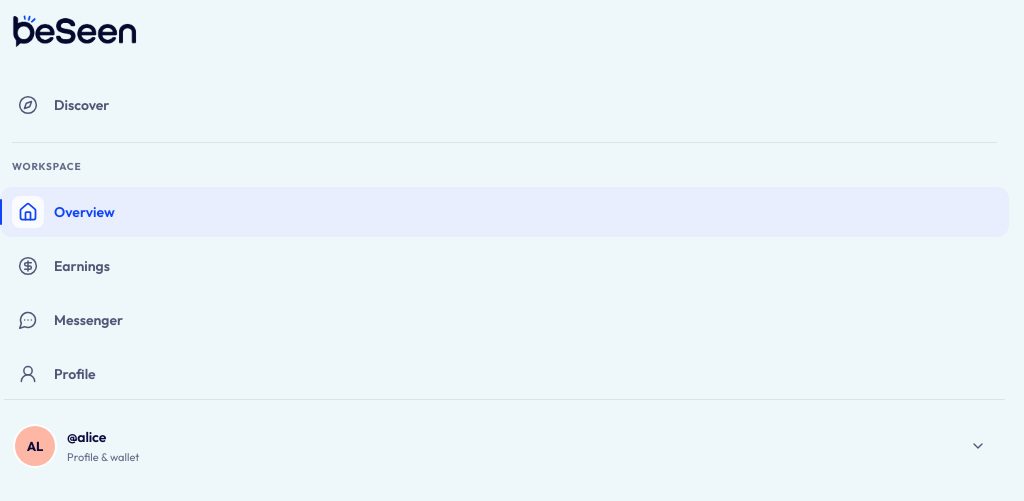
Scenario: Navigation profile menu › opens with focus on the first action and restores focus on Escape
Click the button "AL @alice Profile & wallet" at (35, 446), box [4,416,1005,476]
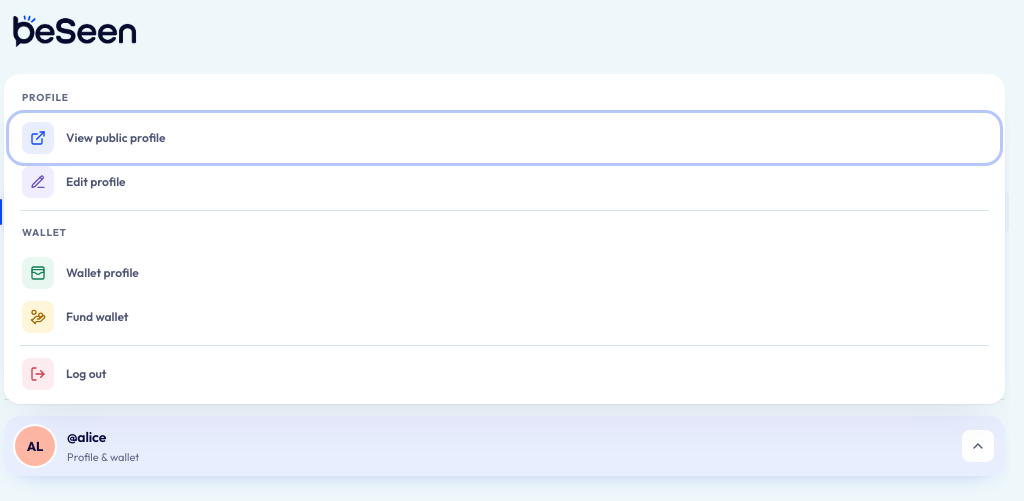
Expected: the menu named "Profile and wallet actions" is shown
Press Escape
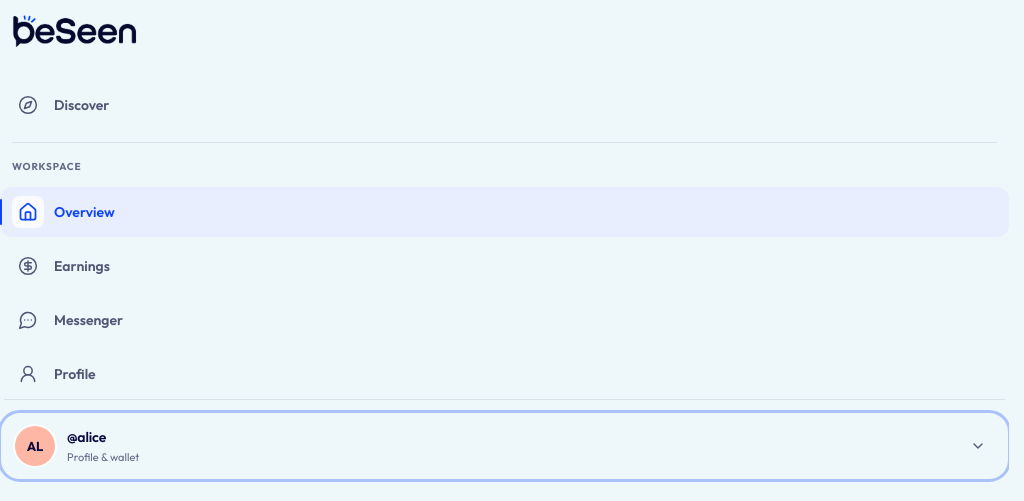
Expected: the menu is gone
